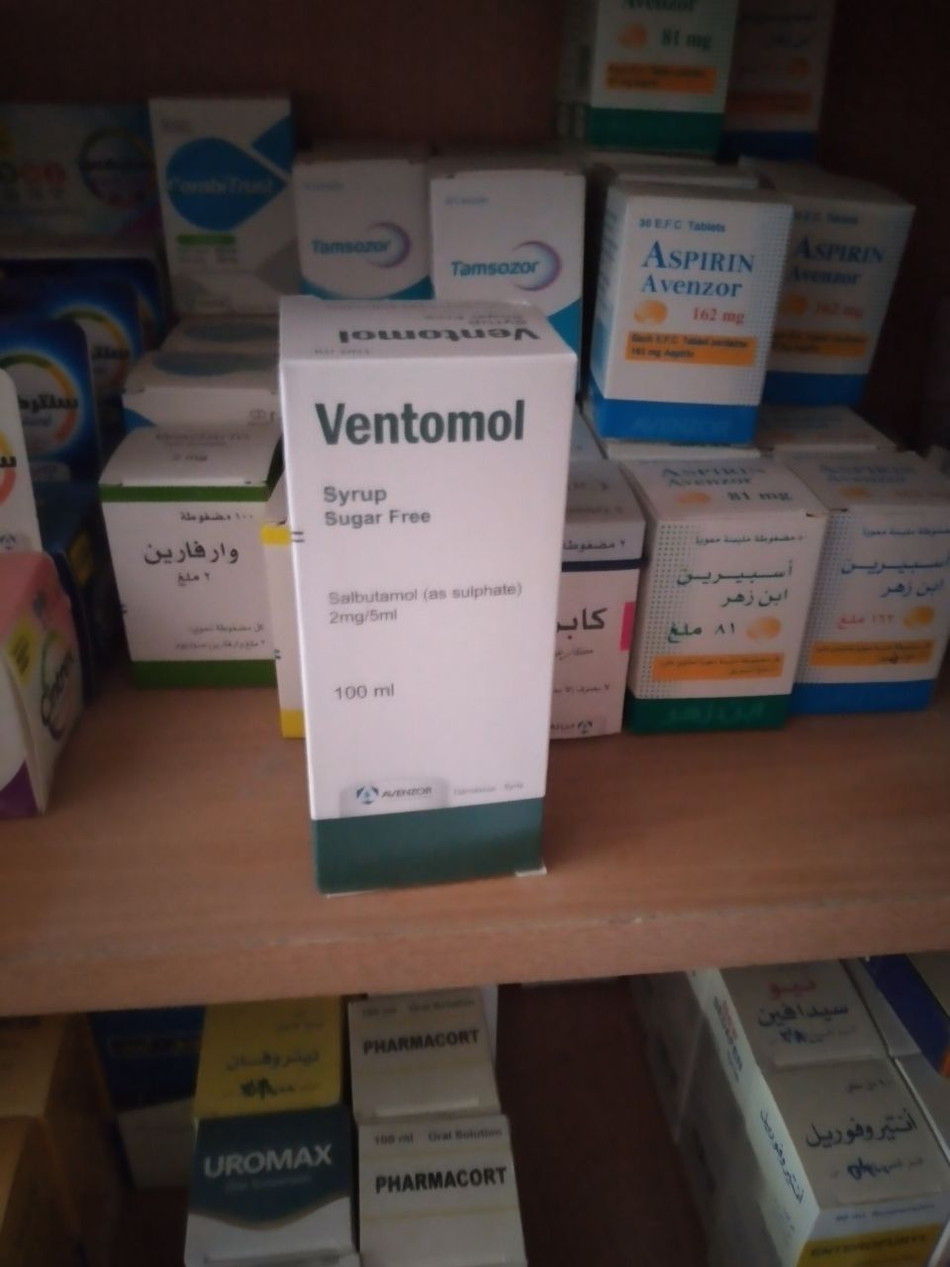Medicine: (270, 337, 610, 891), (99, 399, 300, 693), (600, 175, 792, 482), (640, 475, 805, 746), (139, 92, 307, 333), (798, 455, 934, 716), (280, 148, 462, 307), (432, 172, 594, 333), (795, 158, 891, 419)
